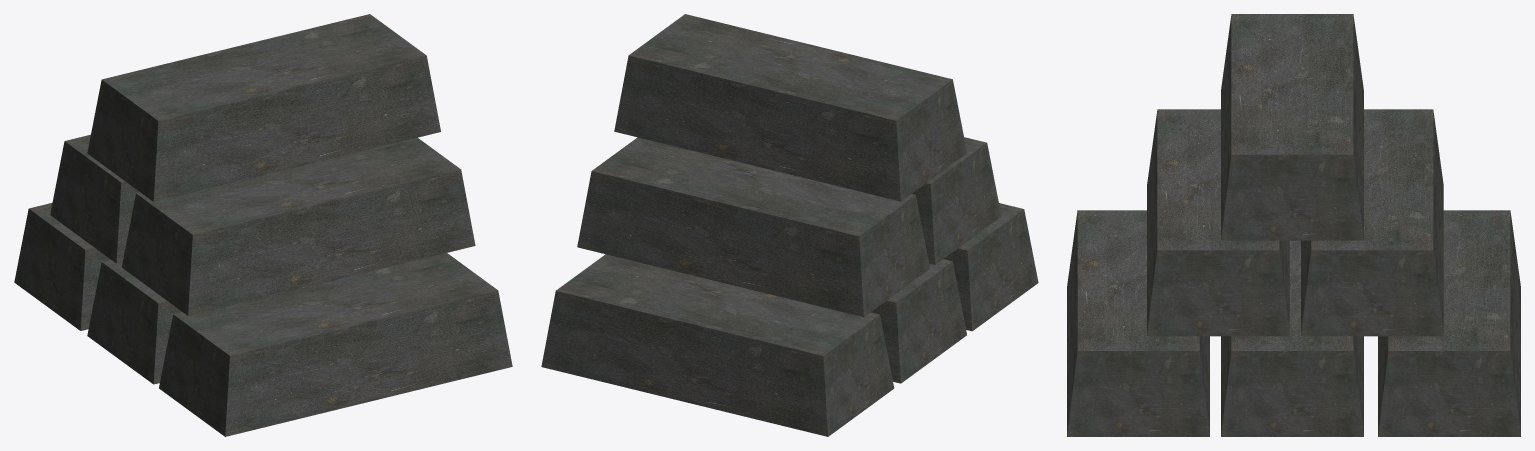
File: pickup_ingots.FBX
3 renders of one model, left to right at view 1: azimuth 30°, elevation 25°; view 2: azimuth 150°, elevation 25°; view 3: azimuth 270°, elevation 25°, orthographic. The views are drawn at different scales.
Visible parts, largest first — view 1: Ingots; view 2: Ingots; view 3: Ingots.
Part boxes in pixels (x1,y1,x2,y2): Ingots: [14, 14, 512, 436]; Ingots: [541, 14, 1038, 436]; Ingots: [1067, 14, 1520, 436].
Bounding box in the file's own units: 20 × 17.13 × 25.42.
1 material, 1 textured.
